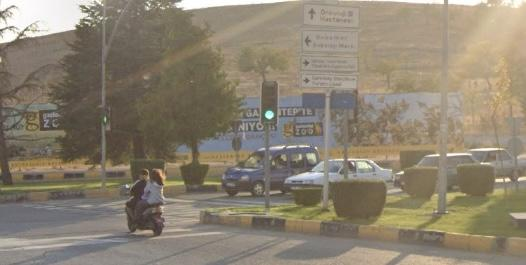greenlight: (261, 82, 277, 125)
